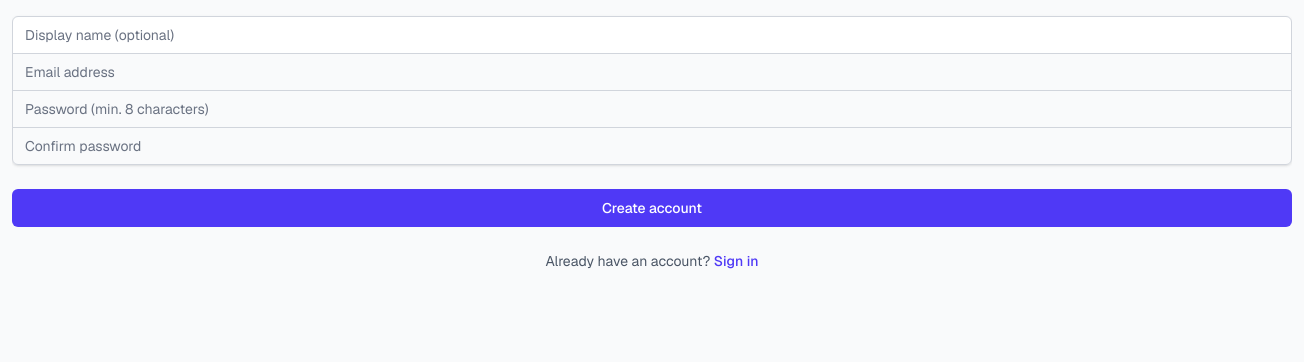
Test case: RegisterForm › shows error when password is too short
Type "test@example.com" into the field with placeholder "Email address".
click(652, 72); type("test@example.com")  # box [12,53,1292,91]
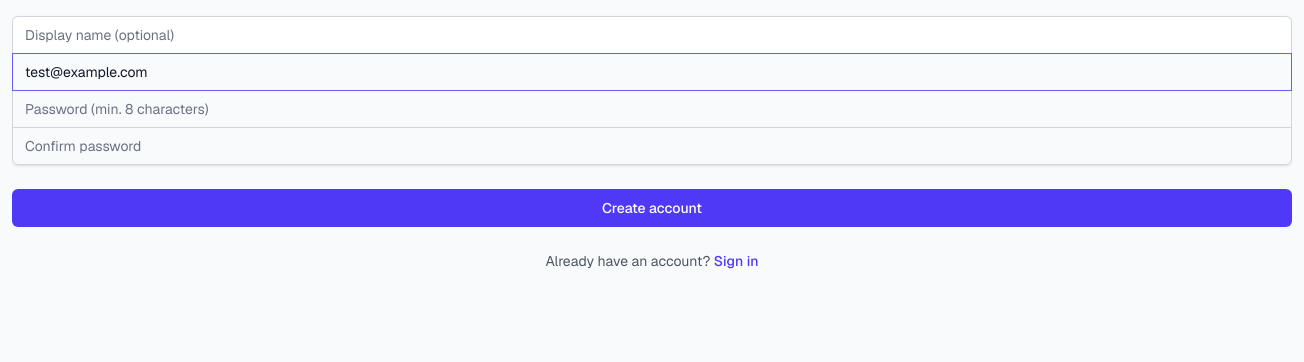
Type "short" into the password field with placeholder "Password (min. 8 characters)".
click(652, 109); type("short")  # box [12,90,1292,128]
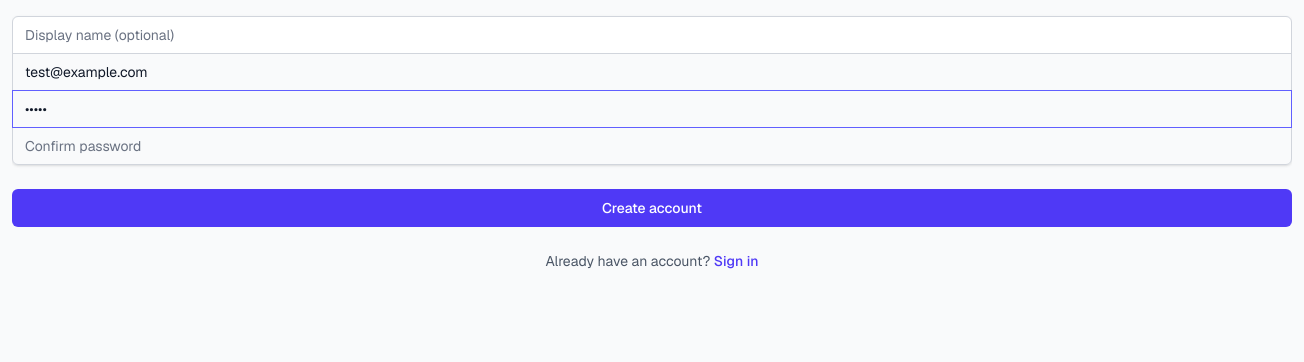
Type "short" into the password field with placeholder "Confirm password".
click(652, 146); type("short")  # box [12,127,1292,165]
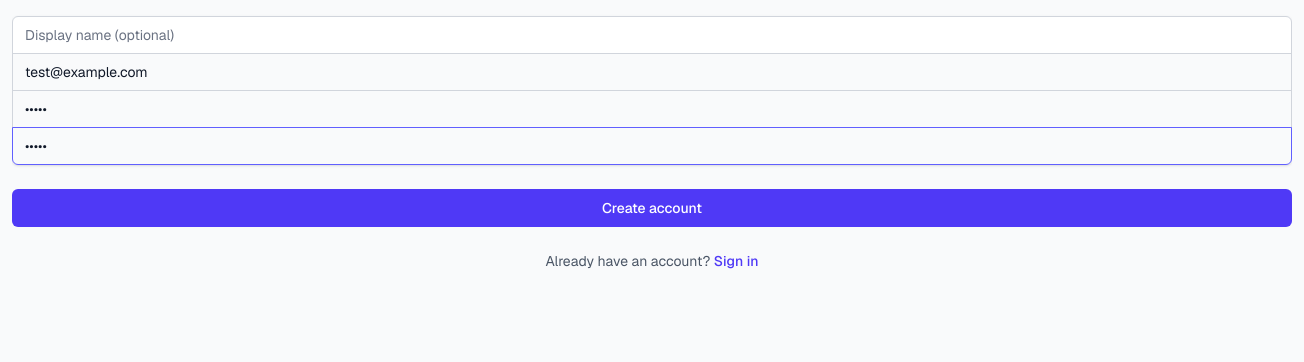
Click the button "Create account".
click(652, 208)  # box [12,189,1292,227]
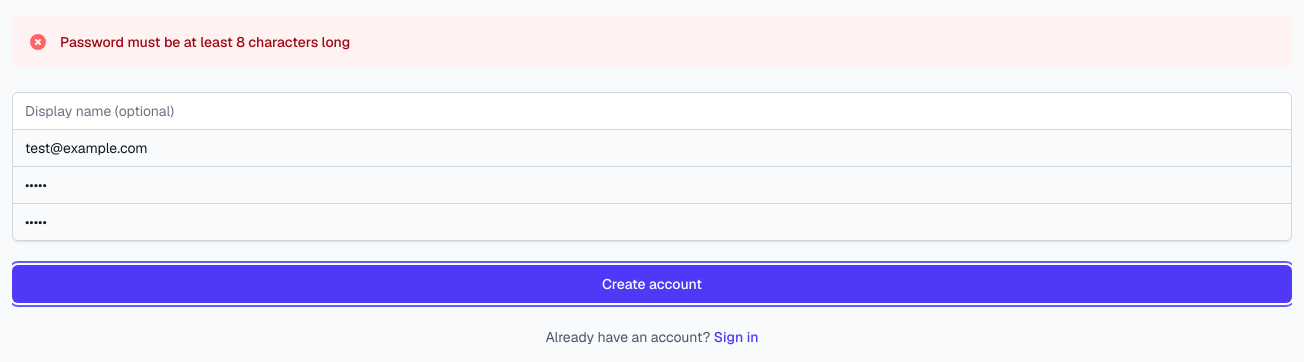
Expected: the text "Password must be at least 8 characters long" is shown, [60,32,350,52]
